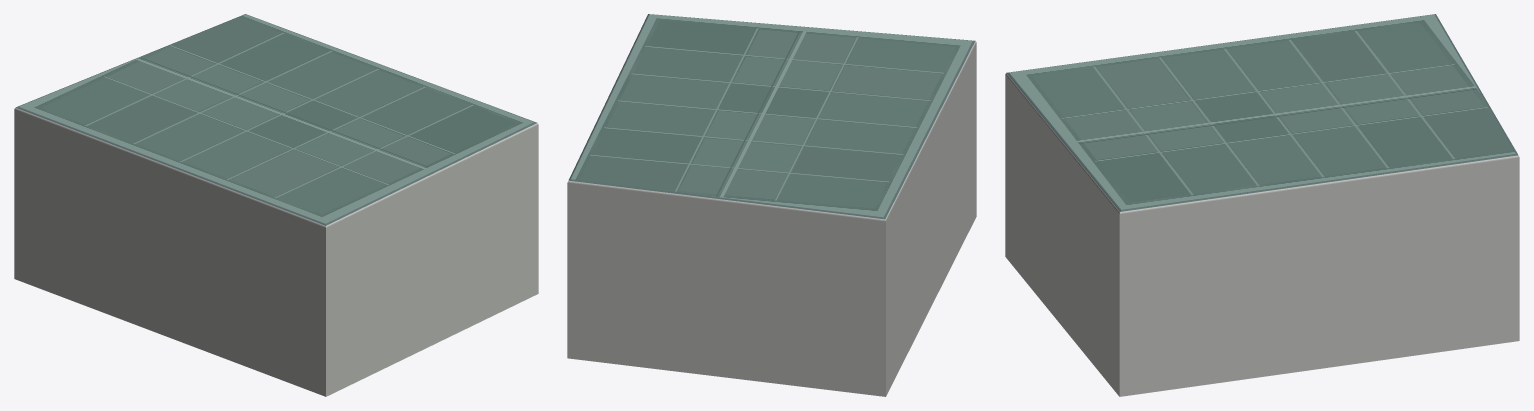
The model's file is intact.glb.
3 renders of one model, left to right at view 1: azimuth 30°, elevation 25°; view 2: azimuth 150°, elevation 25°; view 3: azimuth 270°, elevation 25°, orthographic. The views are drawn at different scales.
Visible parts, largest first — view 1: SM_gh42_Intact_00; view 2: SM_gh42_Intact_00; view 3: SM_gh42_Intact_00.
Boxes of the visible parts, bbox=[...] form: SM_gh42_Intact_00: bbox=[14, 14, 538, 396]; SM_gh42_Intact_00: bbox=[567, 14, 976, 396]; SM_gh42_Intact_00: bbox=[1005, 14, 1519, 396].
Bounding box in the file's own units: 2.01 × 0.8786 × 2.2.
3 materials, 1 textured.
